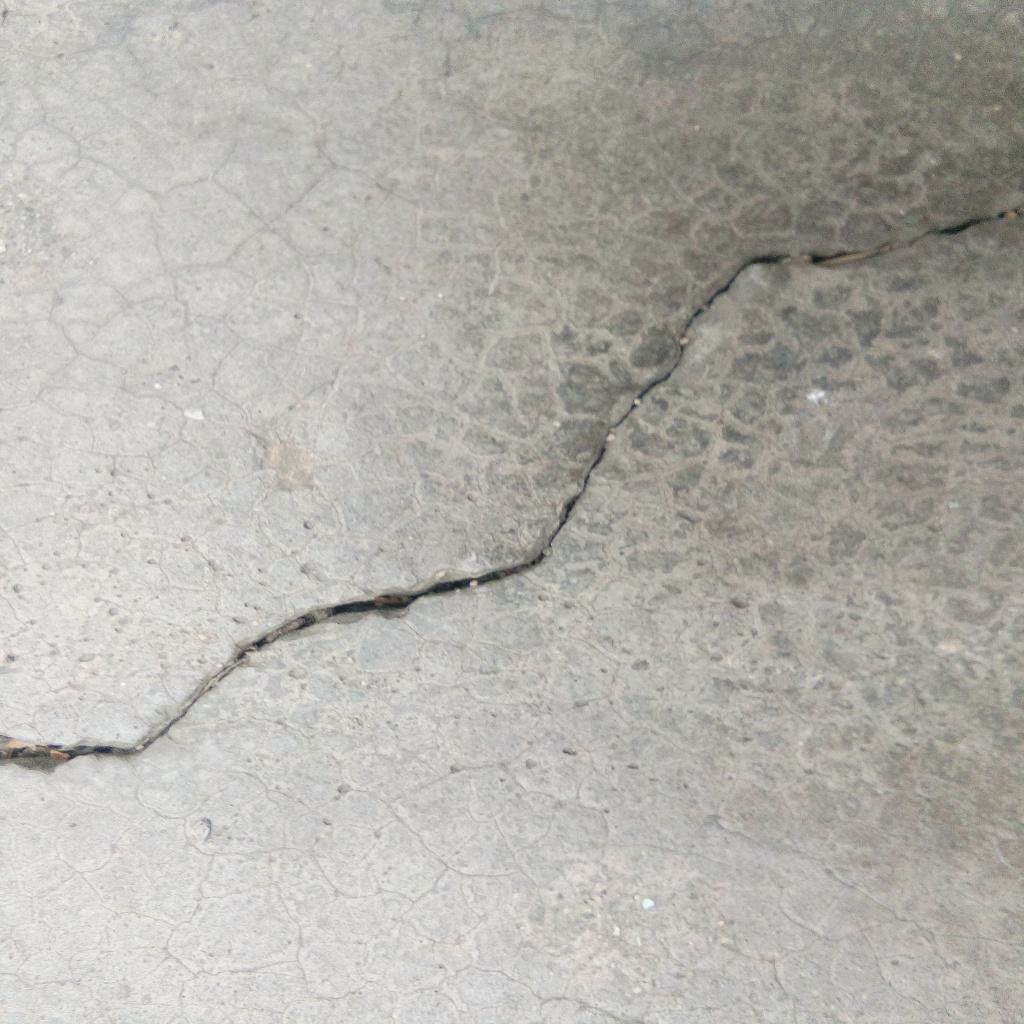Crack: (1, 207, 1024, 772)
